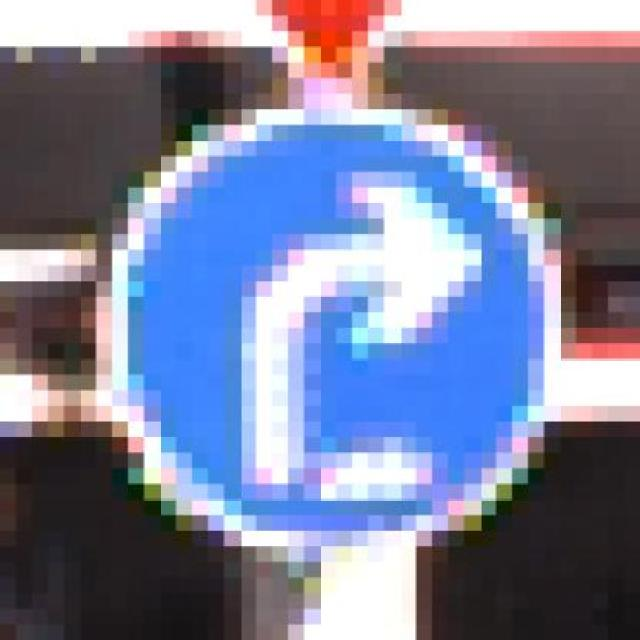Turn right ahead: (80, 78, 592, 562)
